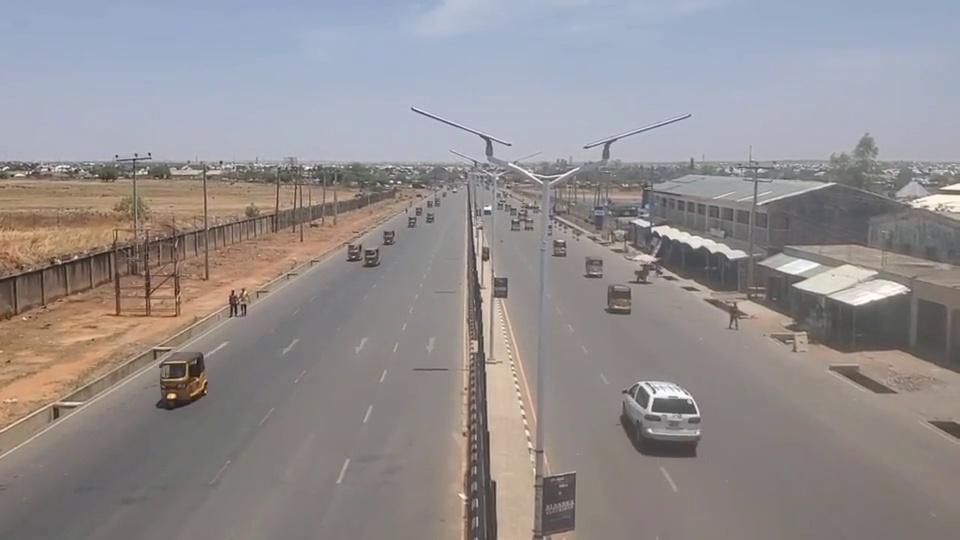car: (621, 379, 700, 447)
keke: (158, 350, 208, 408), (606, 283, 632, 314), (585, 257, 603, 277), (364, 247, 380, 266), (553, 238, 568, 257), (347, 243, 362, 261), (383, 230, 395, 245)
